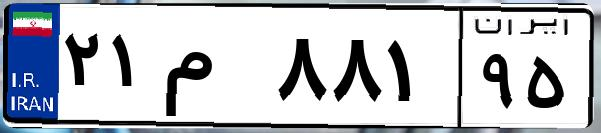1: (385, 28, 445, 110), (110, 28, 158, 98)
2: (57, 26, 110, 100)
5: (525, 38, 570, 115)
8: (270, 28, 330, 110), (330, 28, 385, 110)
9: (475, 38, 525, 113)
م: (158, 20, 270, 120)
